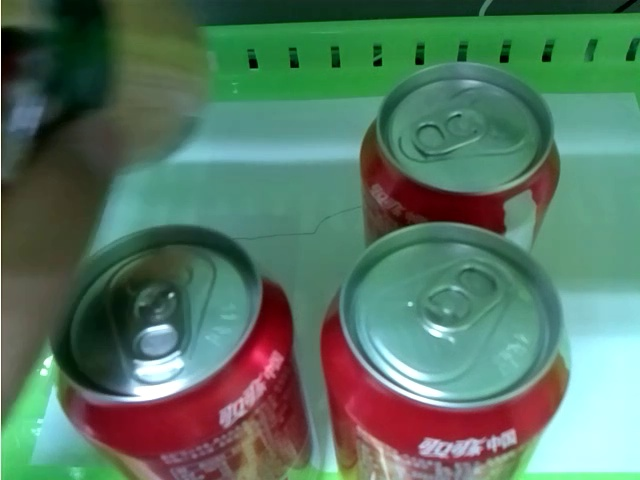cocacola: (310, 222, 573, 480), (52, 222, 312, 480), (353, 60, 562, 239)
